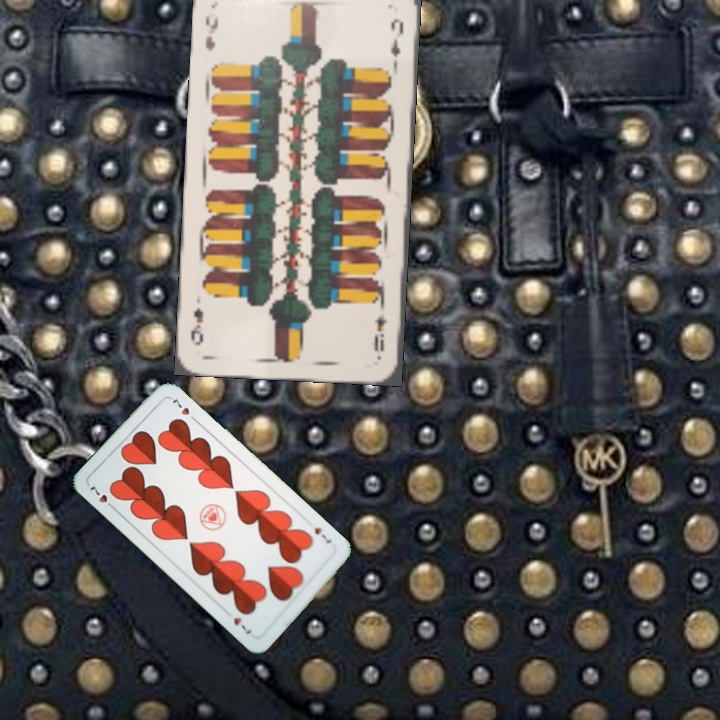E9: (370, 310, 390, 354), (201, 12, 221, 53)
H7: (86, 482, 118, 512), (310, 523, 335, 546)
